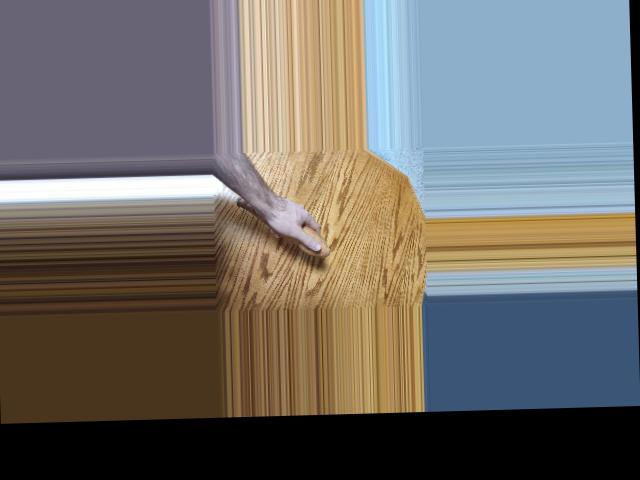sweet_potato: (233, 190, 331, 259)
